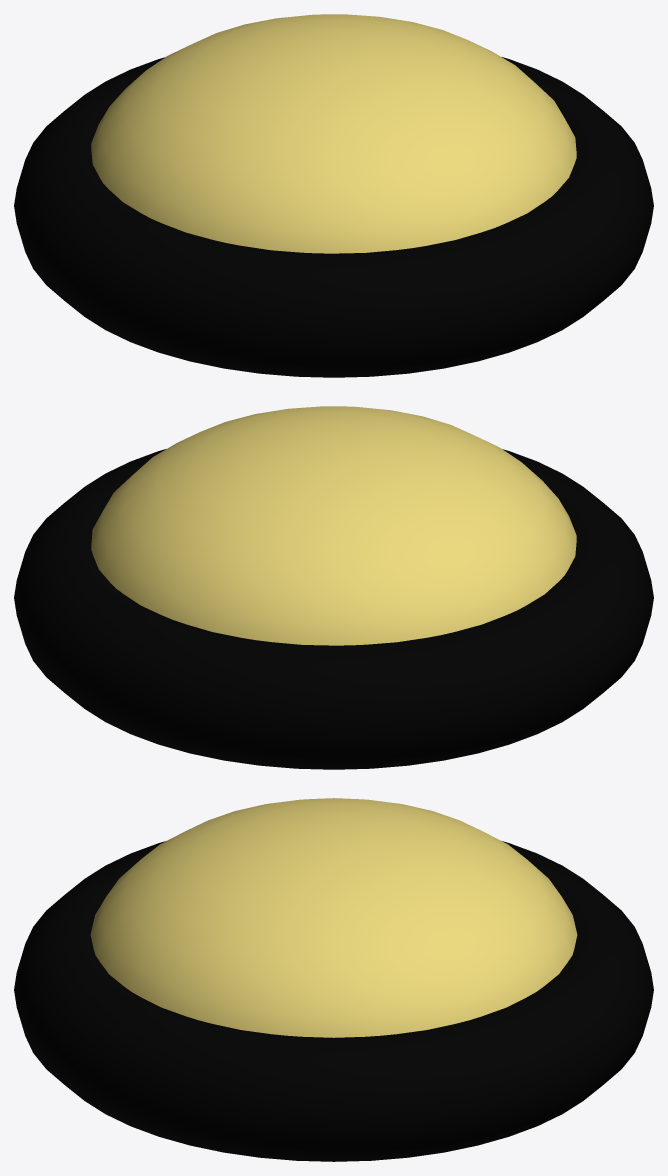
Rendered from SchoolLight.fbx.
The picture shows the model from 3 angles, top to bottom: view 1: azimuth 30°, elevation 25°; view 2: azimuth 150°, elevation 25°; view 3: azimuth 270°, elevation 25°; orthographic projection.
Visible parts, largest first — view 1: Surrounding, Bulb; view 2: Surrounding, Bulb; view 3: Surrounding, Bulb.
Part boxes in pixels (x1,y1,x2,y2): Surrounding: (14,57,653,377); Bulb: (91,14,576,253); Surrounding: (14,449,653,769); Bulb: (91,406,576,645); Surrounding: (14,841,653,1161); Bulb: (90,798,577,1037).
Size of the model in its own units: 150 by 67.88 by 150.
